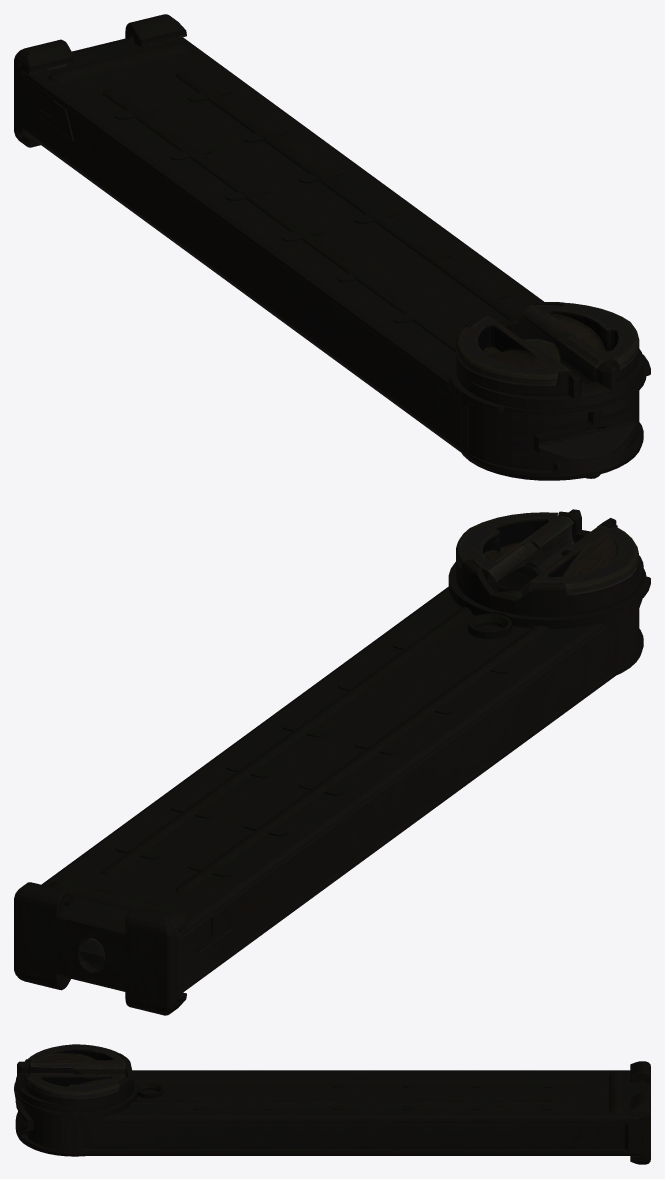
The picture shows the model from 3 angles, top to bottom: view 1: azimuth 30°, elevation 25°; view 2: azimuth 150°, elevation 25°; view 3: azimuth 270°, elevation 25°; orthographic projection. The views are drawn at different scales.
Visible parts, largest first — view 1: TW_5cc70093e4a949033c734312_PZ_Import; view 2: TW_5cc70093e4a949033c734312_PZ_Import; view 3: TW_5cc70093e4a949033c734312_PZ_Import.
Part boxes in pixels (x1,y1,x2,y2): TW_5cc70093e4a949033c734312_PZ_Import: [14, 14, 650, 480]; TW_5cc70093e4a949033c734312_PZ_Import: [14, 509, 650, 1015]; TW_5cc70093e4a949033c734312_PZ_Import: [14, 1044, 650, 1164].
Size of the model in its own units: 0.0322 by 0.1612 by 0.0211.
Materials: 1 (1 with a texture image).
